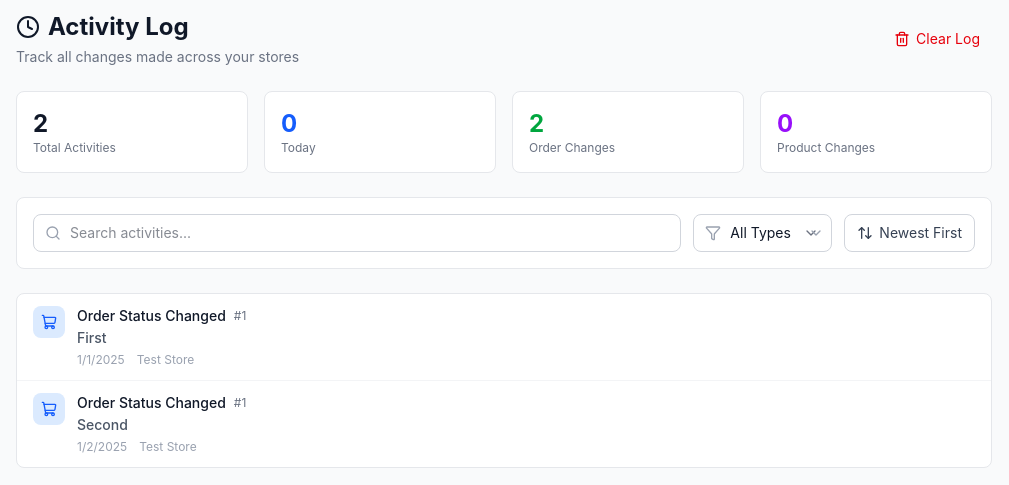
ActivityLogPage › sort order › toggles between newest and oldest first
// Default is newest first (entries are already stored newest first)
Step 1. Click the button "Newest First" → (910, 233), box [844,214,975,252]
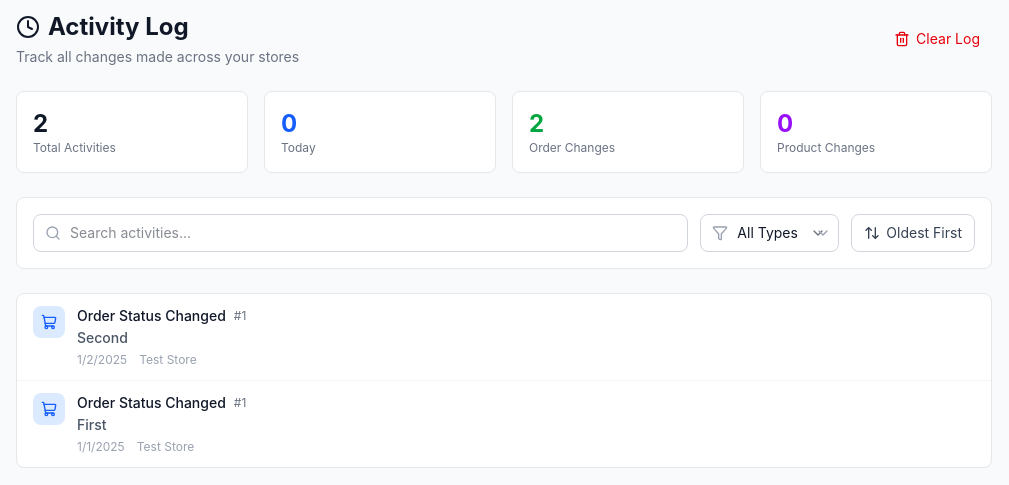
Expected: the button "Oldest First" is shown, [851,214,975,252]
